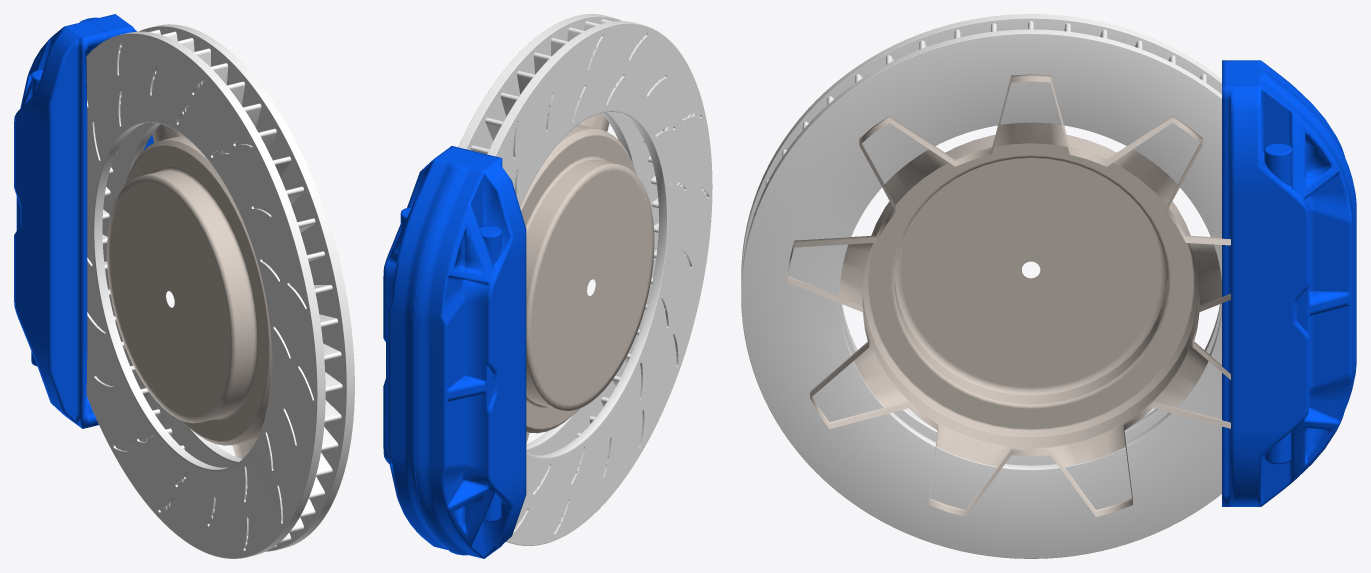
The model's file is brake_disc.fbx.
3 views of the same model, side by side, from view 1: azimuth 30°, elevation 25°; view 2: azimuth 150°, elevation 25°; view 3: azimuth 270°, elevation 25° (orthographic). The views are drawn at different scales.
Parts seen in each view (by area): view 1: Brake Disc.004, Brake Hub.004, Brake Caliper.004, Brake Disc Spokes.007; view 2: Brake Disc.004, Brake Caliper.004, Brake Hub.004, Brake Disc Spokes.007; view 3: Brake Disc.004, Brake Hub.004, Brake Caliper.004.
Part boxes in pixels (x1=…): Brake Disc.004: x1=86, y1=24, x2=354, y2=558; Brake Hub.004: x1=107, y1=124, x2=271, y2=458; Brake Caliper.004: x1=14, y1=14, x2=154, y2=428; Brake Disc Spokes.007: x1=94, y1=29, x2=342, y2=548; Brake Disc.004: x1=458, y1=14, x2=712, y2=545; Brake Caliper.004: x1=383, y1=146, x2=526, y2=558; Brake Hub.004: x1=520, y1=113, x2=654, y2=443; Brake Disc Spokes.007: x1=471, y1=19, x2=706, y2=528; Brake Disc.004: x1=741, y1=14, x2=1221, y2=558; Brake Hub.004: x1=787, y1=74, x2=1230, y2=516; Brake Caliper.004: x1=1222, y1=60, x2=1356, y2=506.
Bounding box in the file's own units: 6.66 × 28.95 × 30.74.
